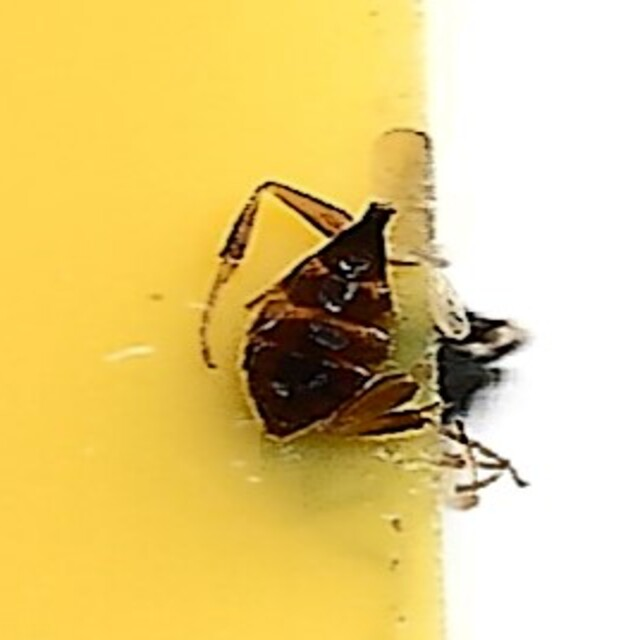Coleoptera: (239, 200, 401, 440)
